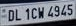character: (14, 8, 22, 21), (46, 5, 54, 18), (37, 6, 44, 19), (7, 9, 14, 21), (30, 7, 37, 19), (24, 7, 30, 20), (54, 4, 60, 17), (67, 3, 73, 16), (60, 4, 66, 16)
